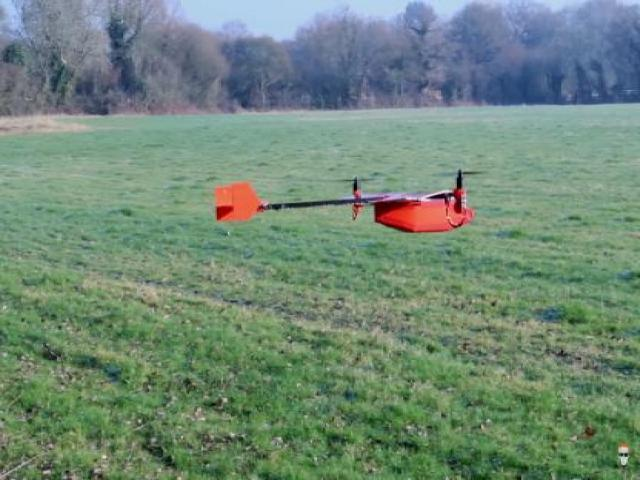uav: (193, 160, 485, 231)
